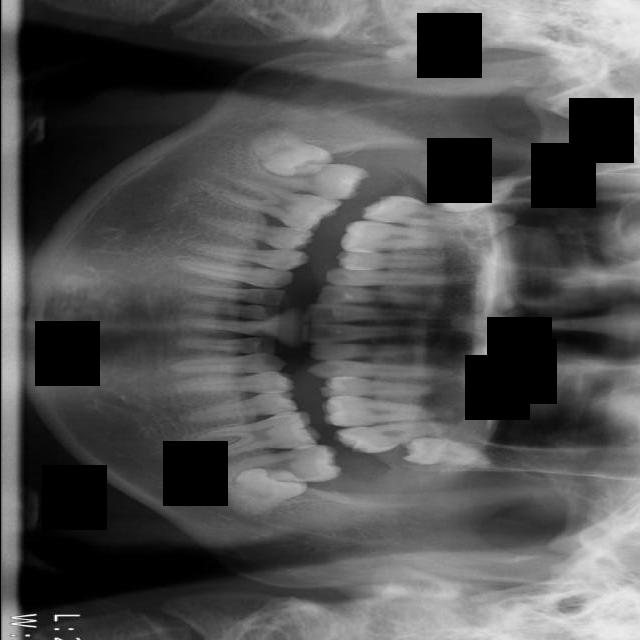3M ESPE Implant: (429, 177, 516, 215)
73: (51, 610, 71, 612)
BioHorizons Implant: (336, 416, 449, 457)
BioLife Implant: (400, 435, 493, 470)
Biomet 3i Implant: (216, 447, 309, 525)
Blue Sky Bio Implant: (232, 441, 341, 493)
Caries: (361, 190, 488, 238)
Implant: (248, 157, 372, 202)
Keystone Dental Implant: (241, 123, 336, 192)
